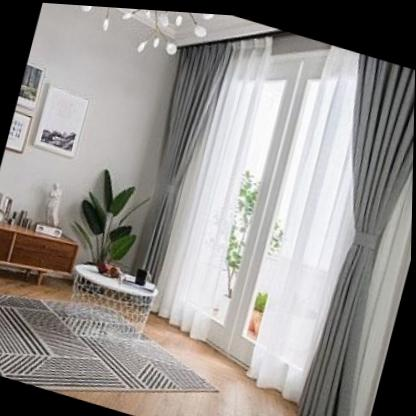Curtains: (148, 29, 415, 416)
Frame: (33, 85, 90, 159), (6, 63, 46, 153)
Wooden floor: (65, 313, 303, 416)
